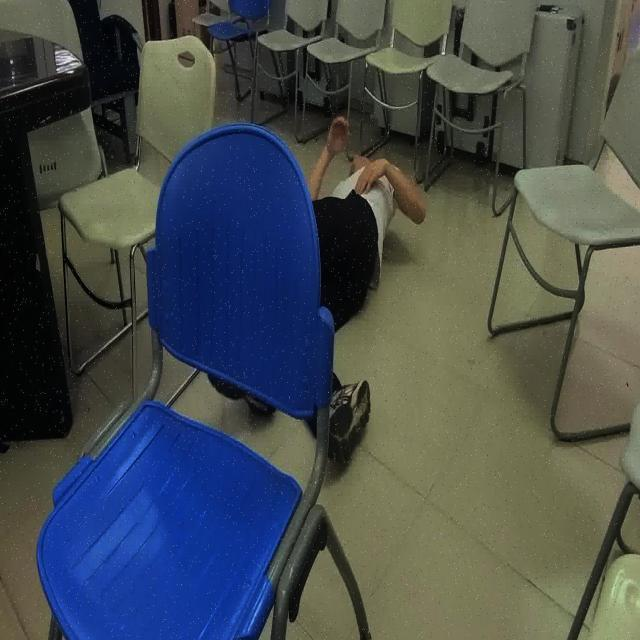fall: (206, 112, 429, 470)
